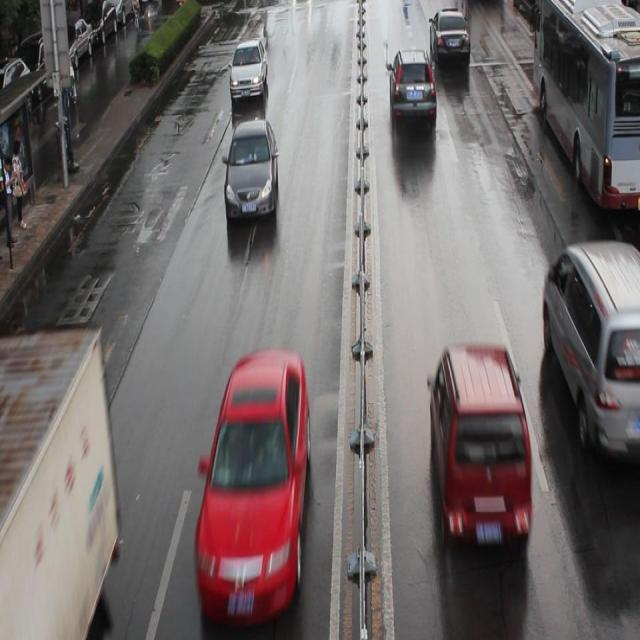bus: (0, 330, 122, 640)
car: (192, 349, 310, 612), (428, 340, 533, 551), (1, 390, 47, 524), (224, 117, 278, 223), (388, 48, 436, 123), (229, 40, 268, 100), (428, 10, 469, 60)
truck: (540, 239, 640, 456)
van: (530, 1, 640, 211)
